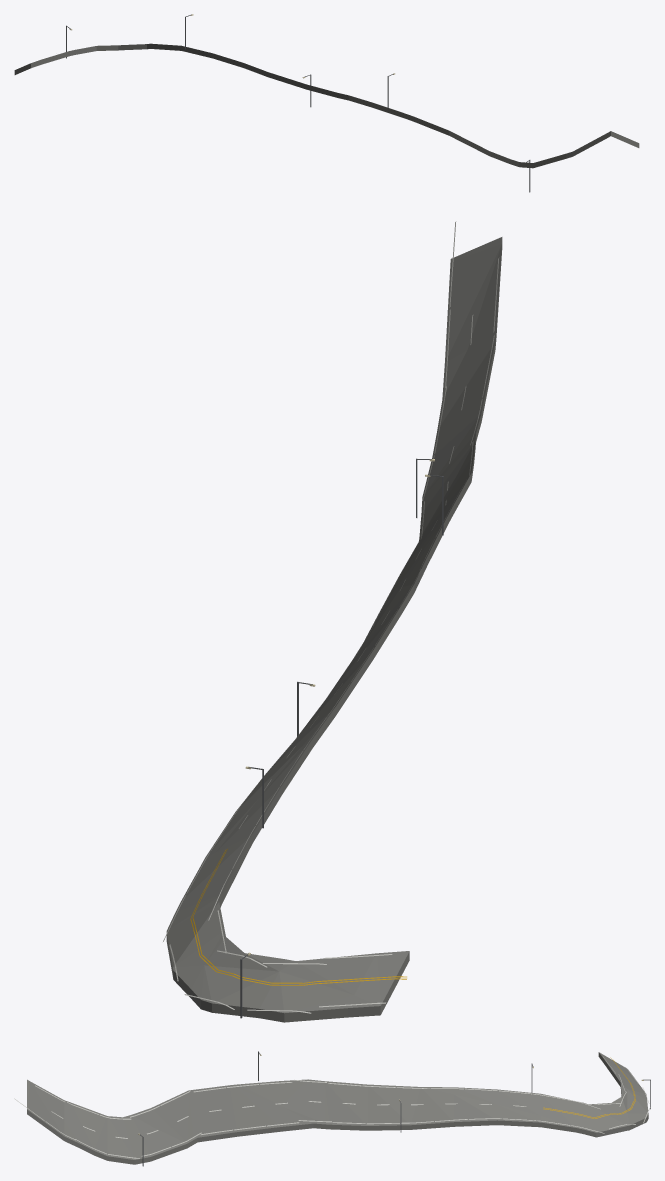
3 views of the same model, one above another, from view 1: azimuth 30°, elevation 25°; view 2: azimuth 150°, elevation 25°; view 3: azimuth 270°, elevation 25° (orthographic). The views are drawn at different scales.
Size of the model in its own units: 73.21 by 30.76 by 147.
